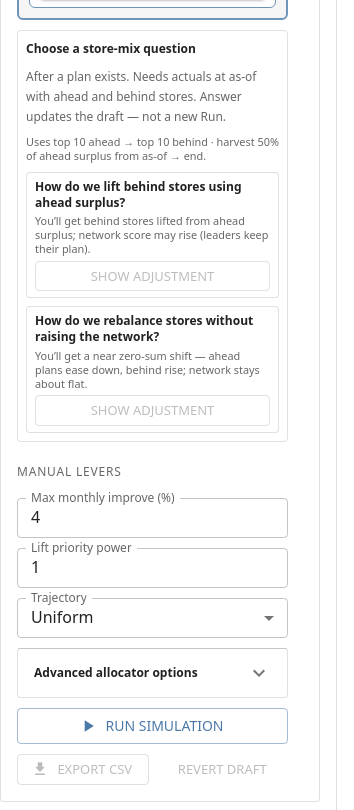
Test case: PlannerPage controls rail › keeps advanced allocator options collapsed until expanded
(page scrolled)
Click the button "Advanced allocator options" at (152, 673), box [18,649,287,697]
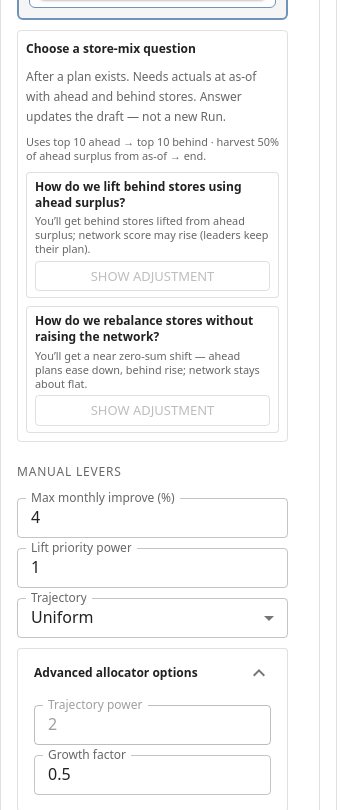
Expected: the number field labelled "Max monthly improve (%)" is shown, [17,498,288,538]
Now the button "Advanced allocator options" is expanded, box [18,649,287,697]
